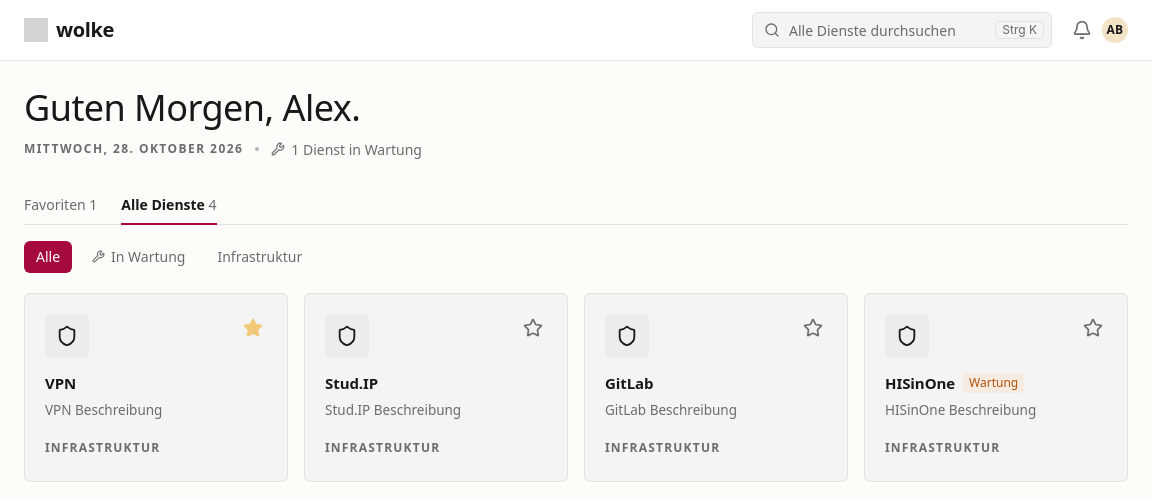
Test case: Dashboard launcher tab row (issue #170) › updates the favorites count when a favorite is toggled
This screenshot has width=1152, height=499.
expect the button "Favoriten 1" is shown: met, box [24,195,97,225]
What coordinates should you click on to do the following:
click the button named "Stud.IP zu Favoriten hinzufügen"
I would click on:
 (533, 328)
Its box is [519,314,547,342].
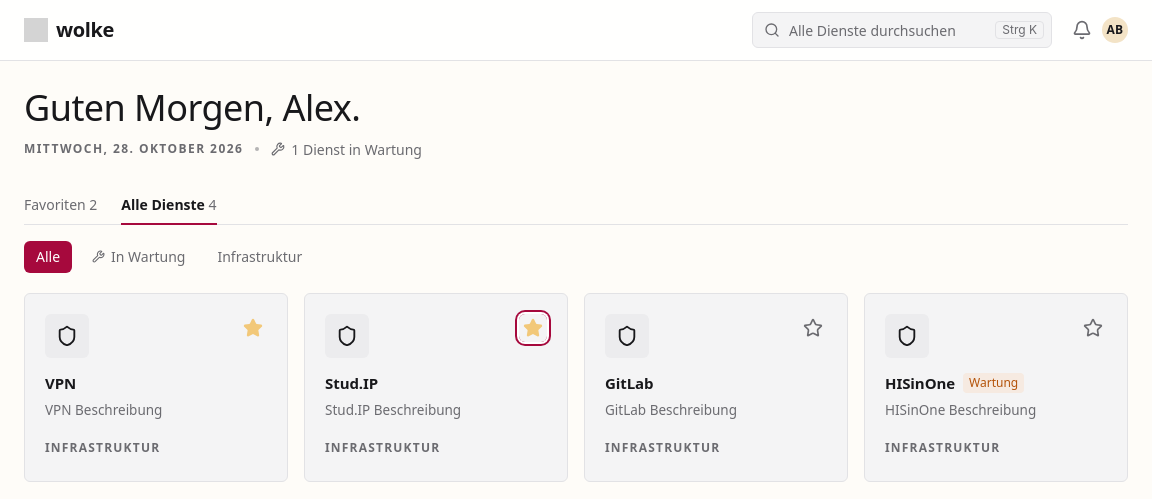
expect the button "Favoriten 2" is shown: met, box [24,195,97,225]
